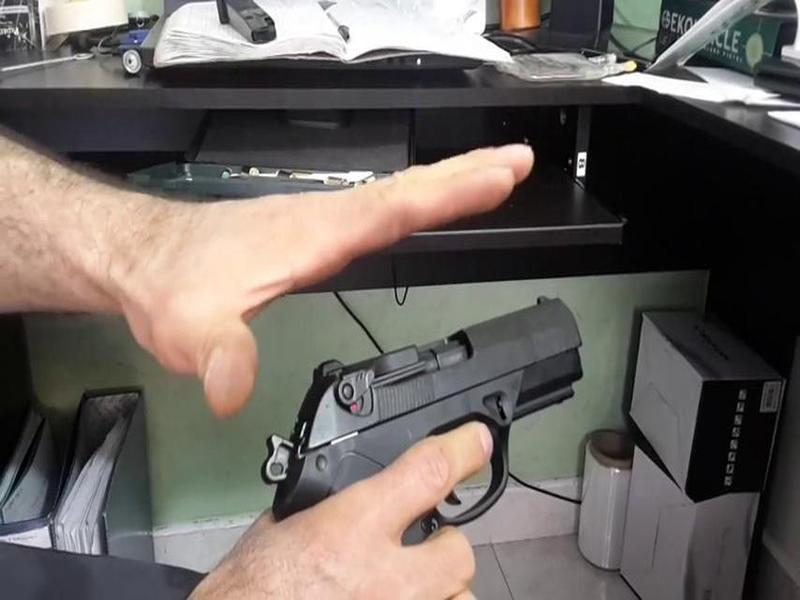Pistola: (261, 294, 592, 548)
